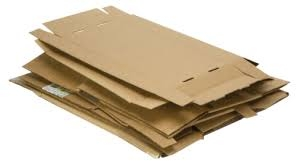paper: (9, 59, 291, 155), (29, 4, 277, 99), (22, 37, 189, 111)
